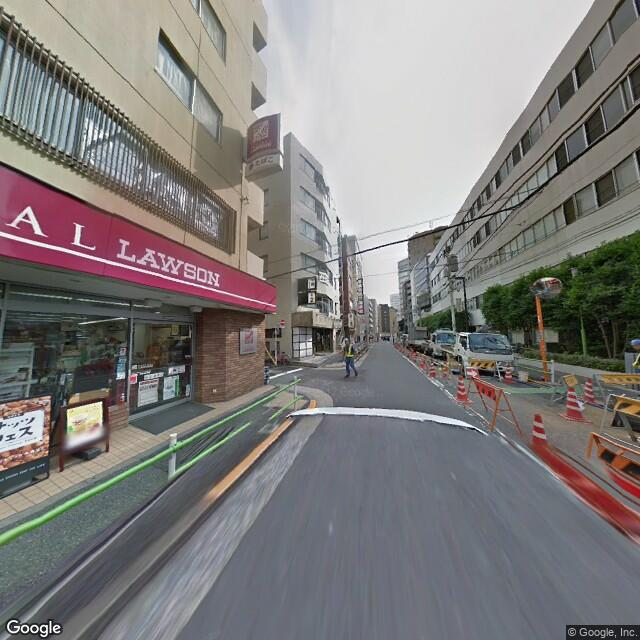lawson: (1, 161, 277, 320), (247, 108, 283, 157)
